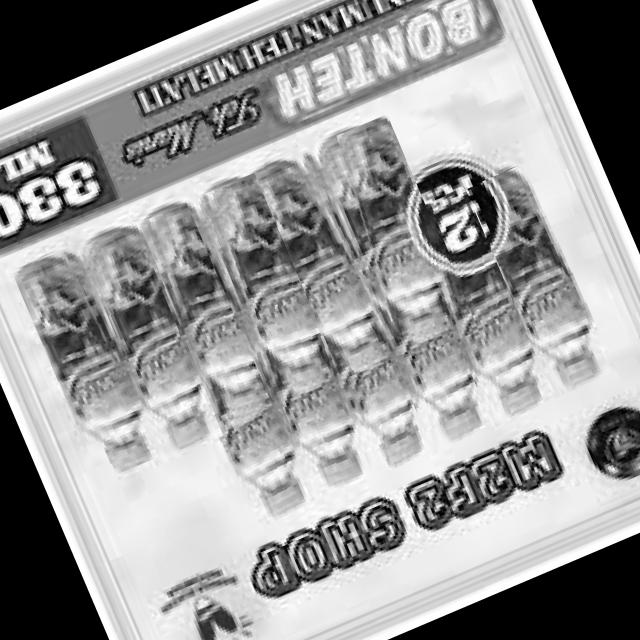plastic bottle: (464, 151, 640, 405), (395, 184, 558, 438), (312, 112, 478, 360), (246, 137, 406, 380), (75, 219, 226, 459), (10, 242, 162, 480), (186, 172, 340, 406), (129, 202, 271, 428), (242, 286, 384, 502), (352, 242, 494, 456), (184, 330, 324, 530), (301, 277, 428, 475)
